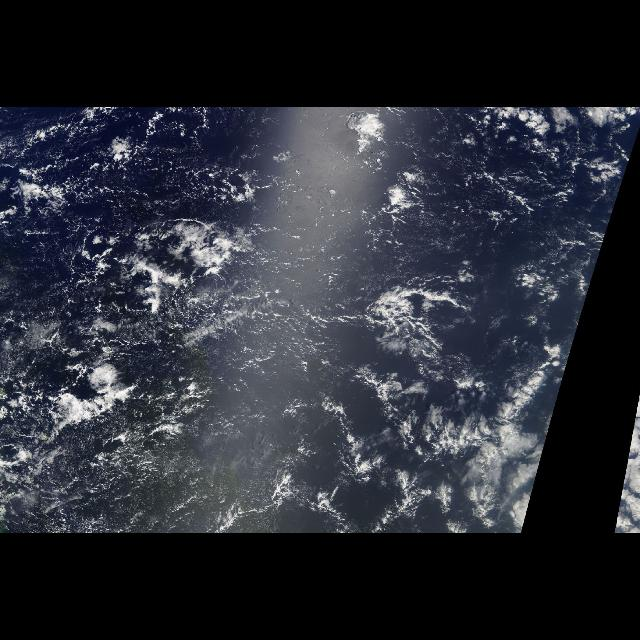Fish: (24, 340, 184, 460), (330, 266, 500, 354)
Flower: (428, 221, 612, 527), (614, 394, 640, 526)
Gravel: (8, 111, 326, 235)
Sugar: (185, 284, 362, 526)
